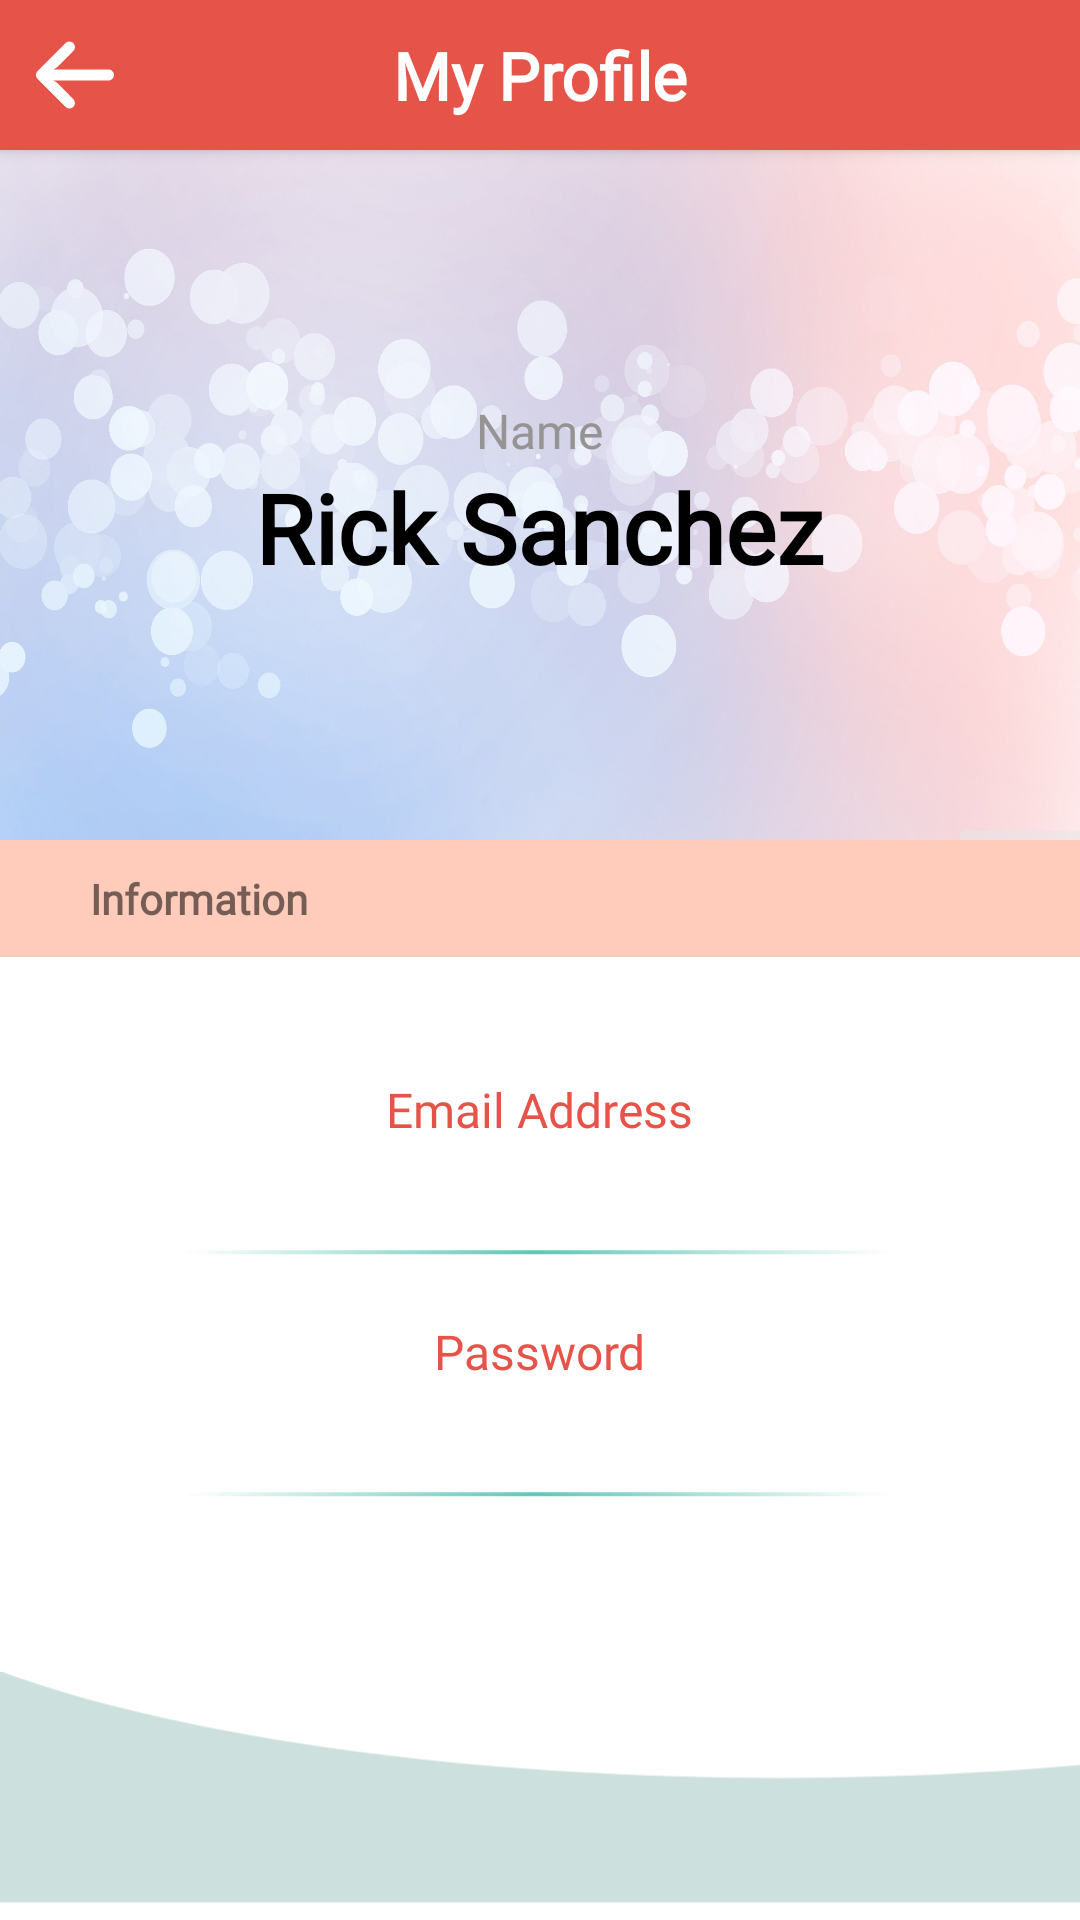

Icons on this 1080*1920 Android screen, each with its box as (x1, y1, x2, y2):
back: (36, 41, 114, 109)
